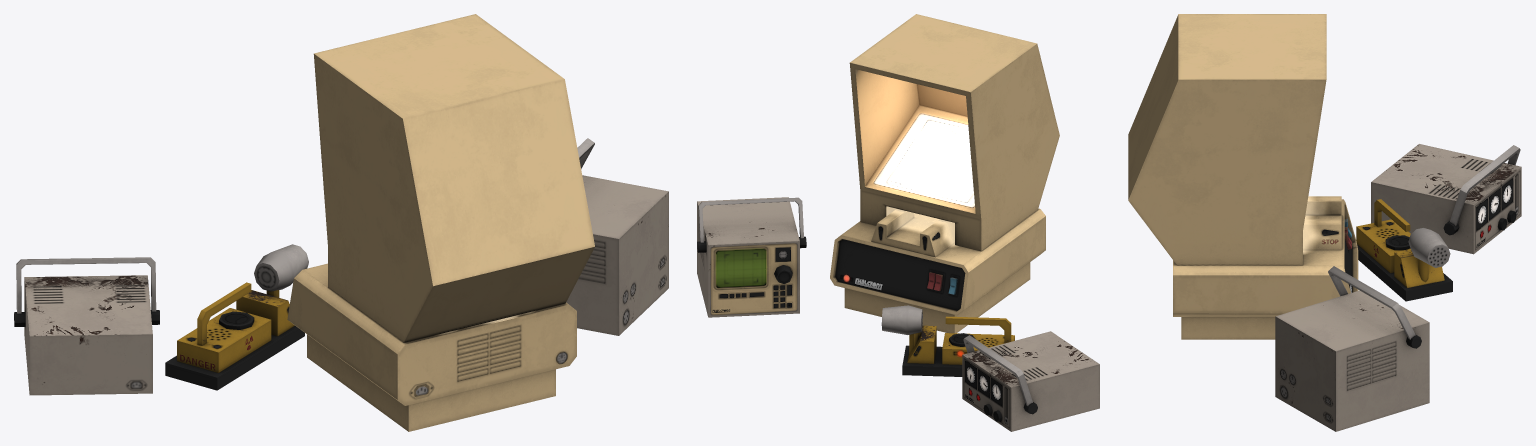
Rendered from lab_things.glb.
3 renders of one model, left to right at view 1: azimuth 30°, elevation 25°; view 2: azimuth 150°, elevation 25°; view 3: azimuth 270°, elevation 25°, orthographic. The views are drawn at different scales.
Parts seen in each view (by area): view 1: Object001_Material #2_0, Object002_Material #2_0, Box002_Material #2_0, Object003_Material #2_0; view 2: Object001_Material #2_0, Box002_Material #2_0, Object002_Material #2_0, Object003_Material #2_0; view 3: Object001_Material #2_0, Box002_Material #2_0, Object002_Material #2_0, Object003_Material #2_0.
Part boxes in pixels (left/top/right/bottom): Object001_Material #2_0: left=287, top=14, right=594, bottom=431; Object002_Material #2_0: left=14, top=257, right=159, bottom=395; Box002_Material #2_0: left=566, top=138, right=668, bottom=335; Object003_Material #2_0: left=165, top=244, right=308, bottom=390; Object001_Material #2_0: left=830, top=14, right=1059, bottom=333; Box002_Material #2_0: left=697, top=197, right=806, bottom=317; Object002_Material #2_0: left=962, top=331, right=1099, bottom=431; Object003_Material #2_0: left=881, top=305, right=1014, bottom=376; Object001_Material #2_0: left=1128, top=14, right=1358, bottom=339; Box002_Material #2_0: left=1275, top=266, right=1429, bottom=431; Object002_Material #2_0: left=1371, top=144, right=1521, bottom=254; Object003_Material #2_0: left=1356, top=199, right=1452, bottom=301.
Size of the model in its own units: 138 by 73.42 by 96.4.
Materials: 1 (1 with a texture image).
